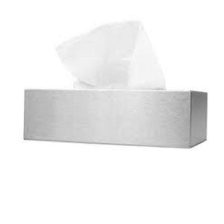book: (16, 81, 212, 153)
tissue: (47, 13, 173, 96)
